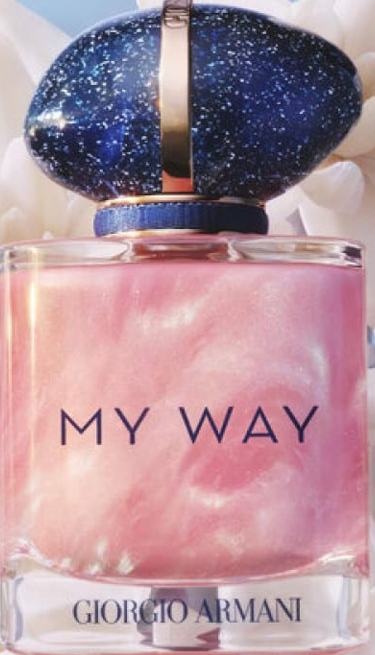armani_my_way_floral: (8, 1, 371, 649)
